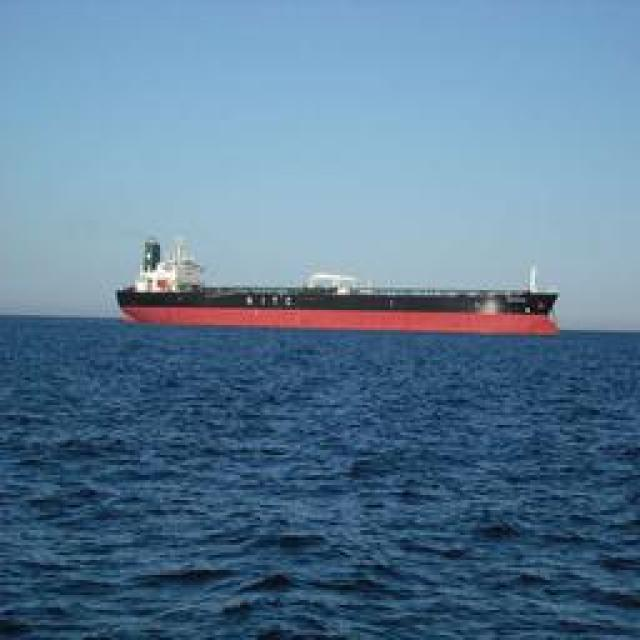CIV_Ship: (118, 240, 562, 335)
